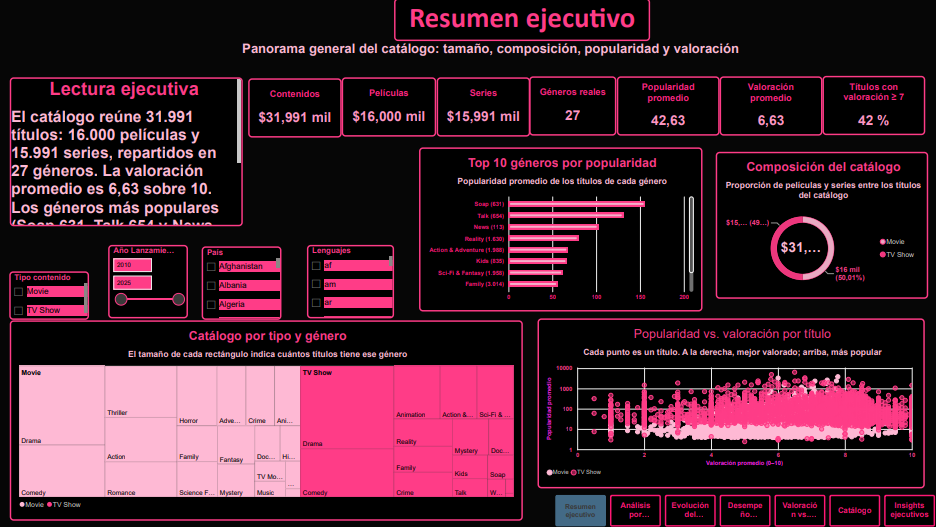

The page's visual inventory and layout, read from the dashboard file:
{"tool":"powerbi","page":{"name":"Resumen ejecutivo","canvas":[1920,1080],"ordinal":0},"visuals":[{"type":"cardVisual","fields":{"Data":["catalogo.Contenidos"]},"box":[713.8,159.3,191.2,121.1],"z":0},{"type":"cardVisual","fields":{"Data":["catalogo.Películas"]},"box":[909.2,161.5,193.3,121.1],"z":1000},{"type":"cardVisual","fields":{"Data":["catalogo.Series"]},"box":[1102.5,159.3,191.2,121.1],"z":2000},{"type":"cardVisual","fields":{"Data":["catalogo.Popularidad promedio"]},"box":[1472.2,159.3,210.3,121.1],"z":3000},{"type":"cardVisual","fields":{"Data":["catalogo.Valoración promedio"]},"box":[1682.5,159.3,210.3,121.1],"z":4000},{"type":"cardVisual","fields":{"Data":["catalogo.Géneros"]},"box":[1293.7,159.3,178.4,121.1],"z":5000},{"type":"clusteredBarChart","title":"Top 10 géneros por popularidad","fields":{"Category":["catalogo.genero"],"Y":["catalogo.Popularidad por género"]},"box":[860.4,303.8,579.3,335.3],"z":6000},{"type":"donutChart","title":"Composición del catálogo","fields":{"Category":["catalogo.content_type"],"Y":["catalogo.Contenidos"]},"box":[1465.8,313.1,434.3,300.4],"z":7000},{"type":"treemap","title":"Catálogo por tipo y género","fields":{"Details":["catalogo.genero"],"Group":["catalogo.content_type"],"Values":["catalogo.Contenidos"]},"box":[23.4,720.2,442.4,315.4],"z":8000},{"type":"scatterChart","title":"Popularidad vs. valoración por título","fields":{"Category":["catalogo.title"],"Series":["catalogo.content_type"],"X":["Avg(catalogo.vote_average_valida)"],"Y":["Avg(catalogo.popularity)"]},"box":[499.2,707.4,673.4,337.8],"z":9000},{"type":"textbox","box":[57.4,153,630.9,318.7],"z":10000},{"type":"textbox","box":[808.9,0,523,86.9],"z":11000},{"type":"textbox","box":[499.2,87.1,1155.7,36.1],"z":12000},{"type":"slicer","fields":{"Values":["catalogo.content_type"]},"box":[23.4,556.6,162.7,99.2],"z":13000},{"type":"slicer","fields":{"Values":["catalogo.release_year"]},"box":[225.2,503.5,163,150],"z":14000},{"type":"slicer","fields":{"Values":["catalogo.pais_principal"]},"box":[416.4,505.6,163,150],"z":15000},{"type":"slicer","fields":{"Values":["catalogo.language"]},"box":[630.9,503.5,178,150],"z":16000},{"type":"actionButton","box":[1801.9,1.9,100,40],"z":16001}]}

Visuals, with their boxes in screenshot pixels (x1, y1, x2, y2), scaled from the page's 1920x1080 canvas onto the 936x527 screenshot:
cardVisual - catalogo.Contenidos: 348,78,441,137
cardVisual - catalogo.Películas: 443,79,537,138
cardVisual - catalogo.Series: 537,78,631,137
cardVisual - catalogo.Popularidad promedio: 718,78,820,137
cardVisual - catalogo.Valoración promedio: 820,78,923,137
cardVisual - catalogo.Géneros: 631,78,718,137
"Top 10 géneros por popularidad" clusteredBarChart: 419,148,702,312
"Composición del catálogo" donutChart: 715,153,926,299
"Catálogo por tipo y género" treemap: 11,351,227,505
"Popularidad vs. valoración por título" scatterChart: 243,345,572,510
textbox: 28,75,336,230
textbox: 394,0,649,42
textbox: 243,43,807,60
slicer - catalogo.content_type: 11,272,91,320
slicer - catalogo.release_year: 110,246,189,319
slicer - catalogo.pais_principal: 203,247,282,320
slicer - catalogo.language: 308,246,394,319
actionButton: 878,1,927,20
